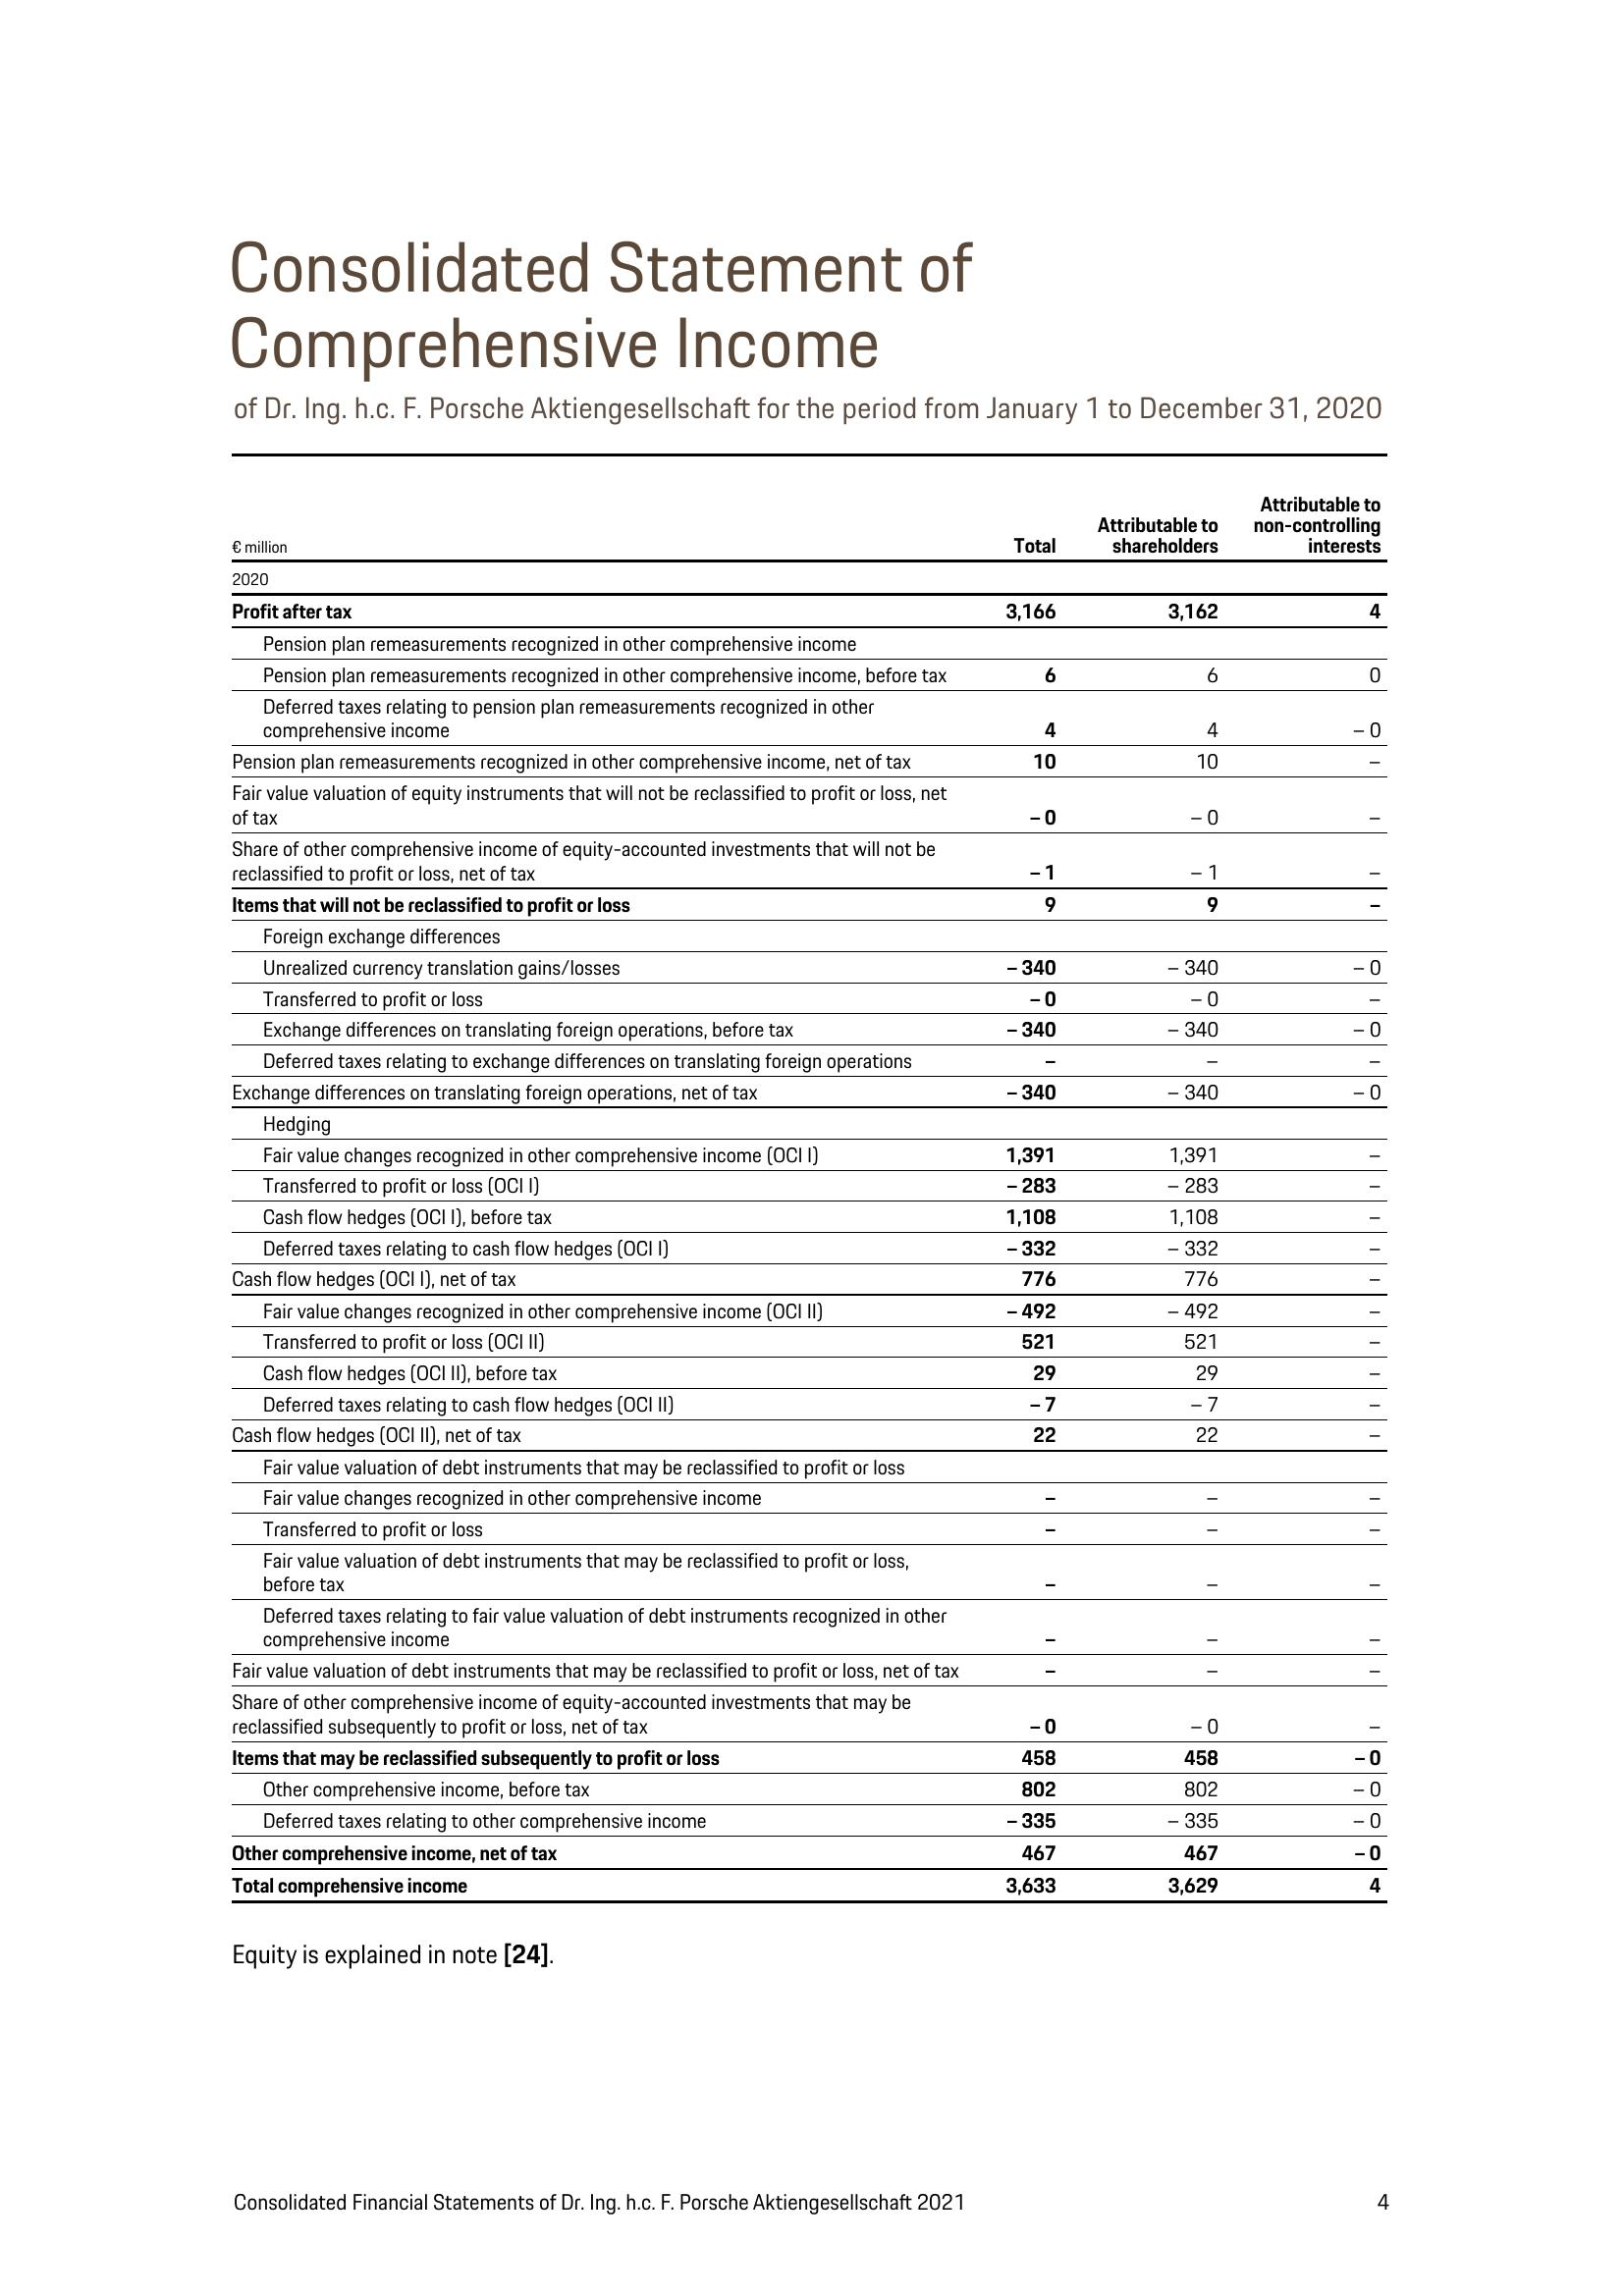Footer: (0, 2113, 1624, 2296)
Header: (0, 0, 1624, 174)
Table: (146, 448, 1434, 1929)
